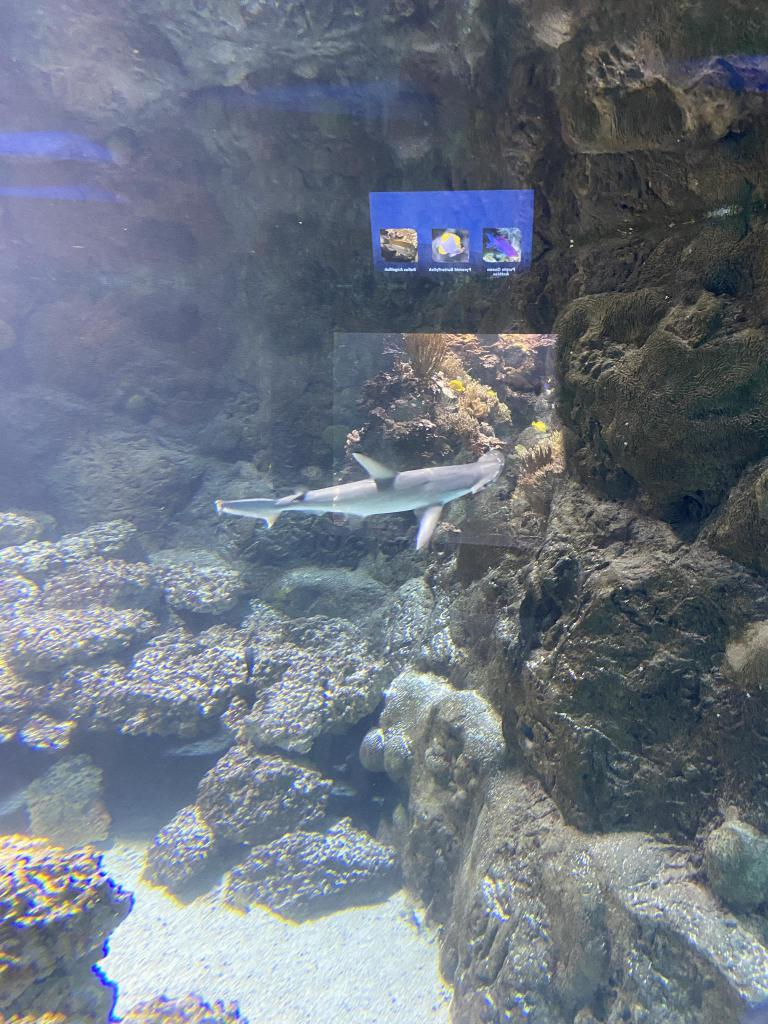shark: (214, 452, 506, 548)
